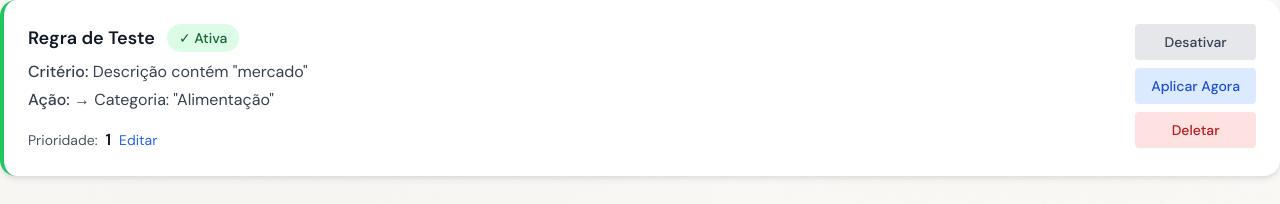
ListaRegras › deve permitir editar prioridade ao clicar no botão
Click the button "Editar": (138, 140) [119,130,157,150]
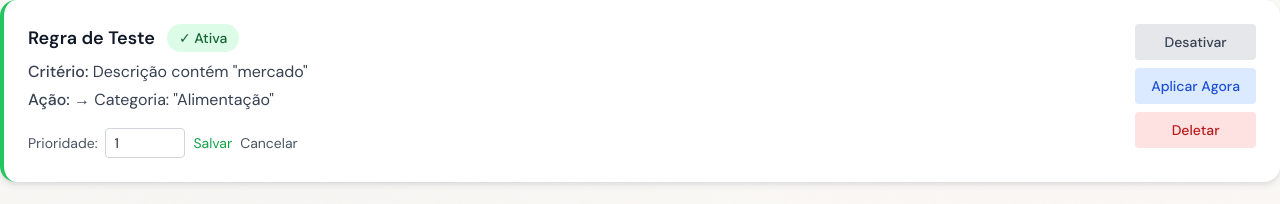
Check: the number field showing "1" is shown, box [106,128,186,158]
